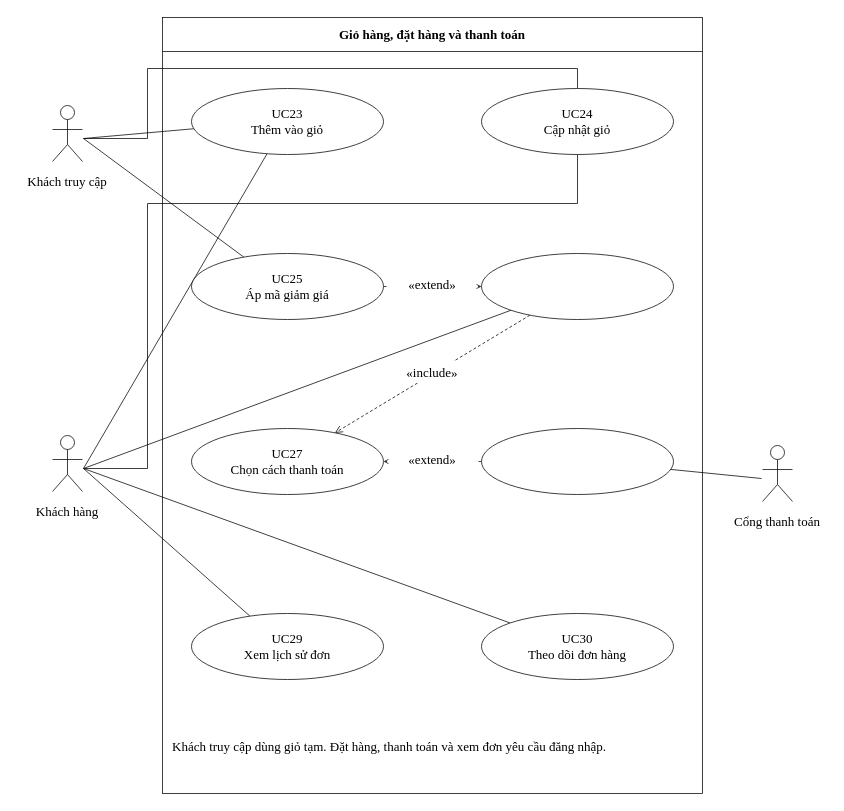
Image size: 844x811. Some labels were removed from this diagram. The shapes that lost their labels are listed below. From the top down, each one's centre as x and y in pixels, then its label:
point 577,286: UC26 Đặt hàng
point 577,461: UC28 Thanh toán QR
